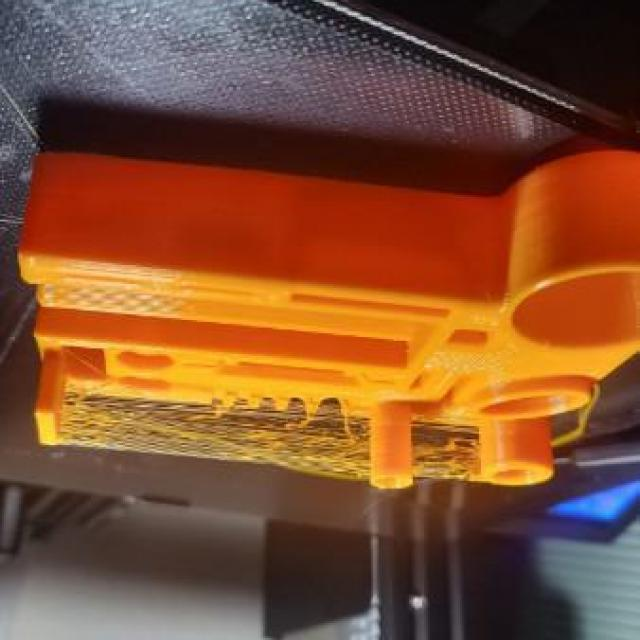stringing: (249, 406, 341, 468), (65, 394, 166, 450), (165, 405, 247, 459), (412, 441, 481, 482), (339, 421, 374, 472)
